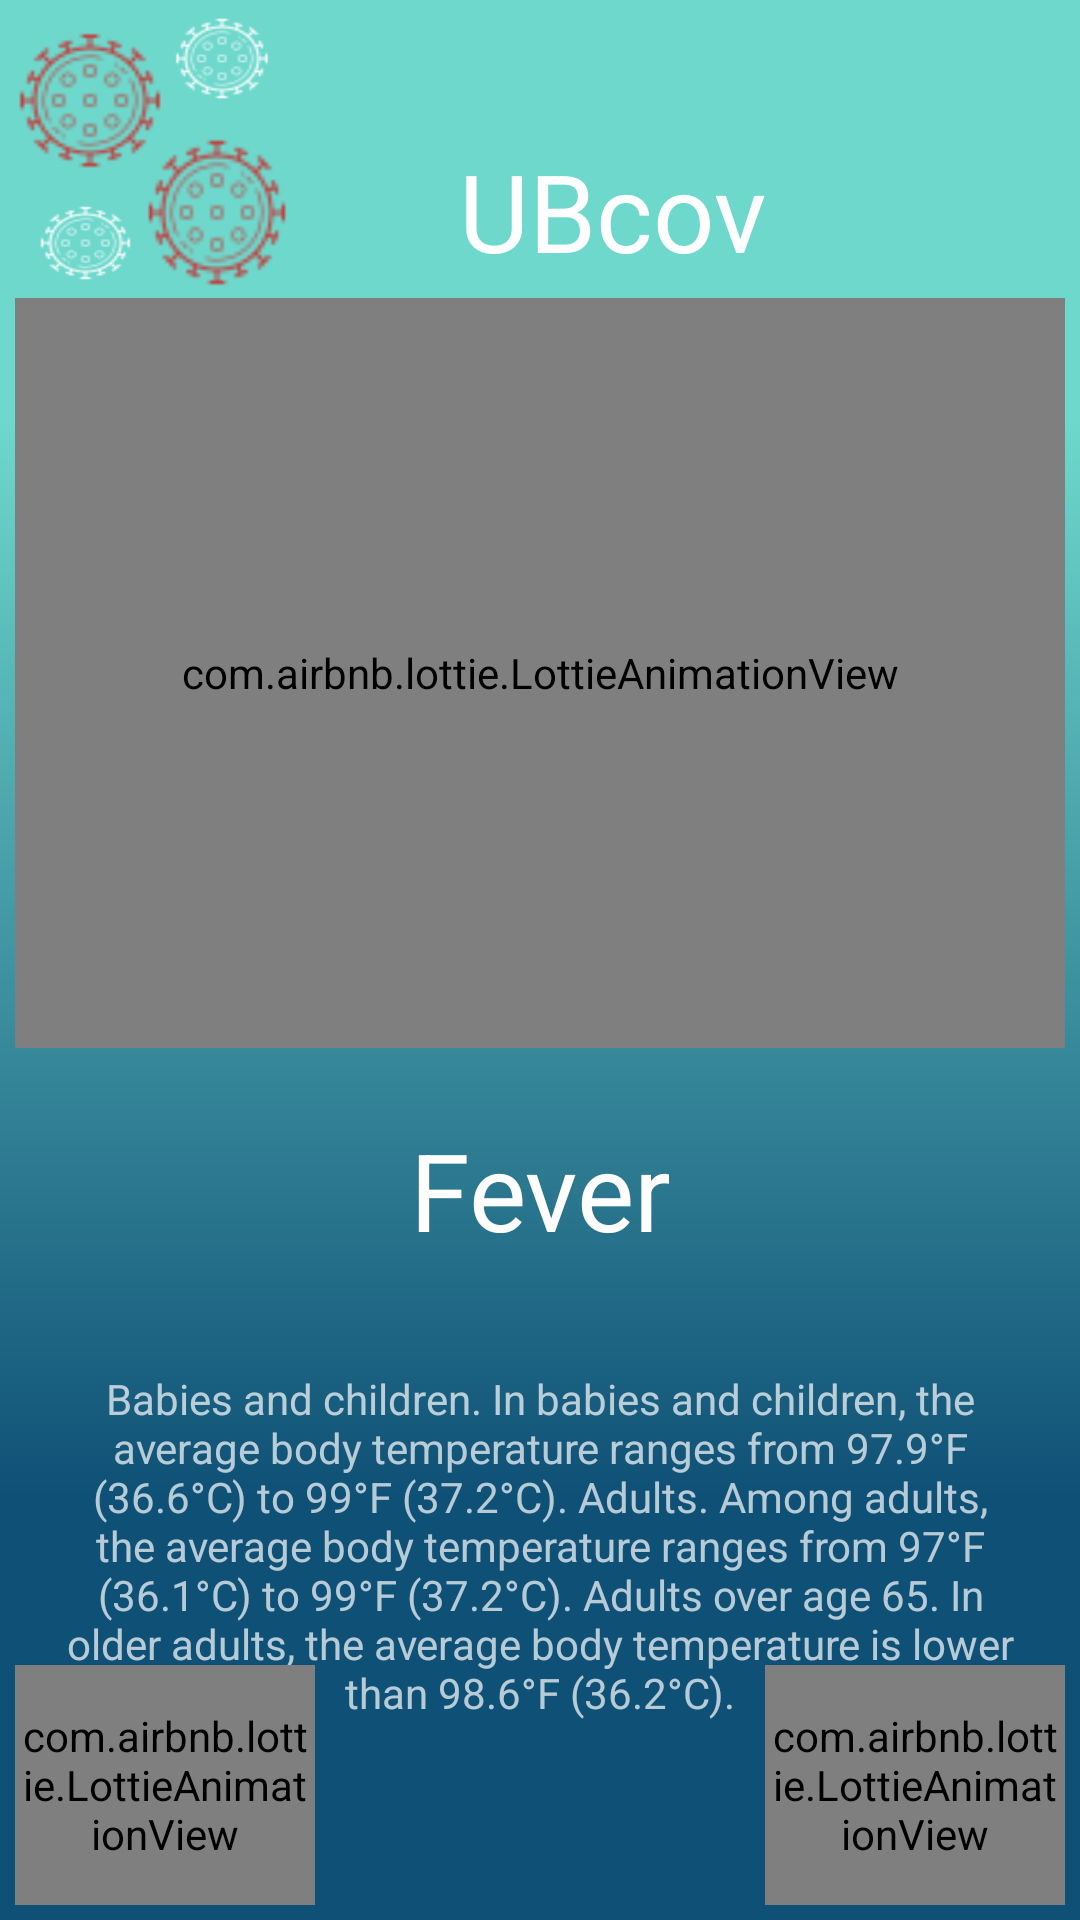

Screen size 1080×1920. Icon name, then its center in pixels as [x,y]:
corona: [222,58], [90,100], [217,212], [85,243]
